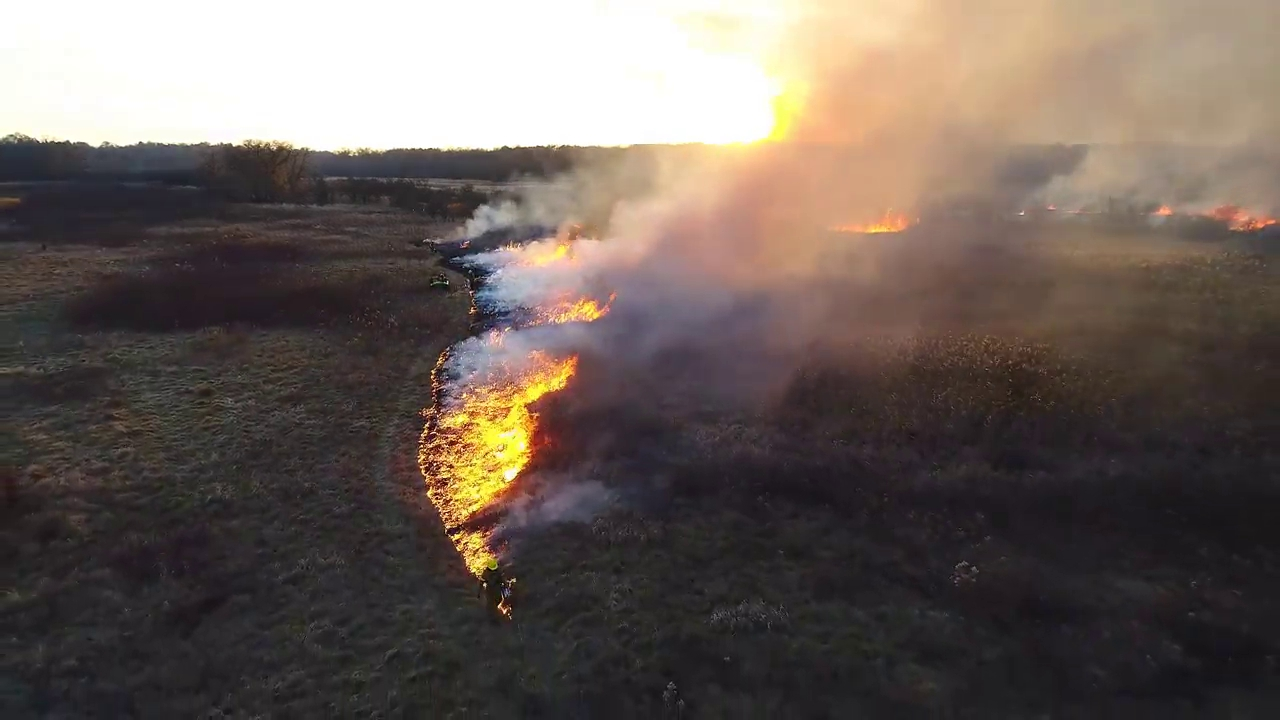forest_fire: (419, 235, 615, 575), (1202, 206, 1279, 231), (834, 212, 917, 234)
